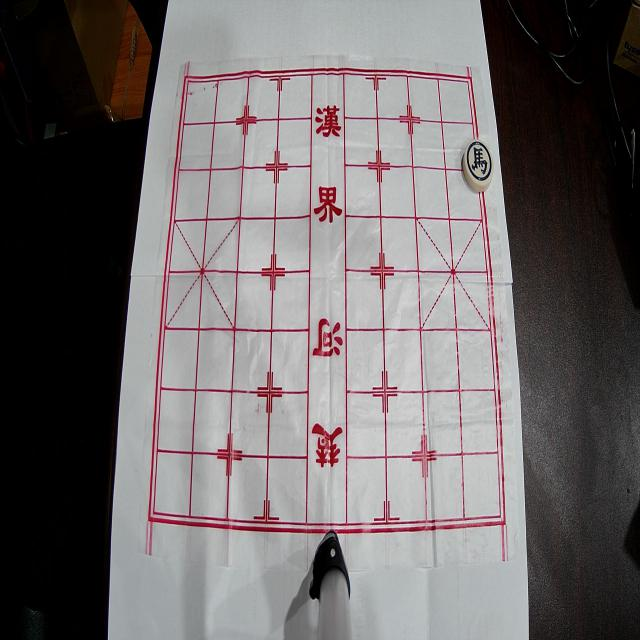black-horse: (463, 139, 494, 192)
